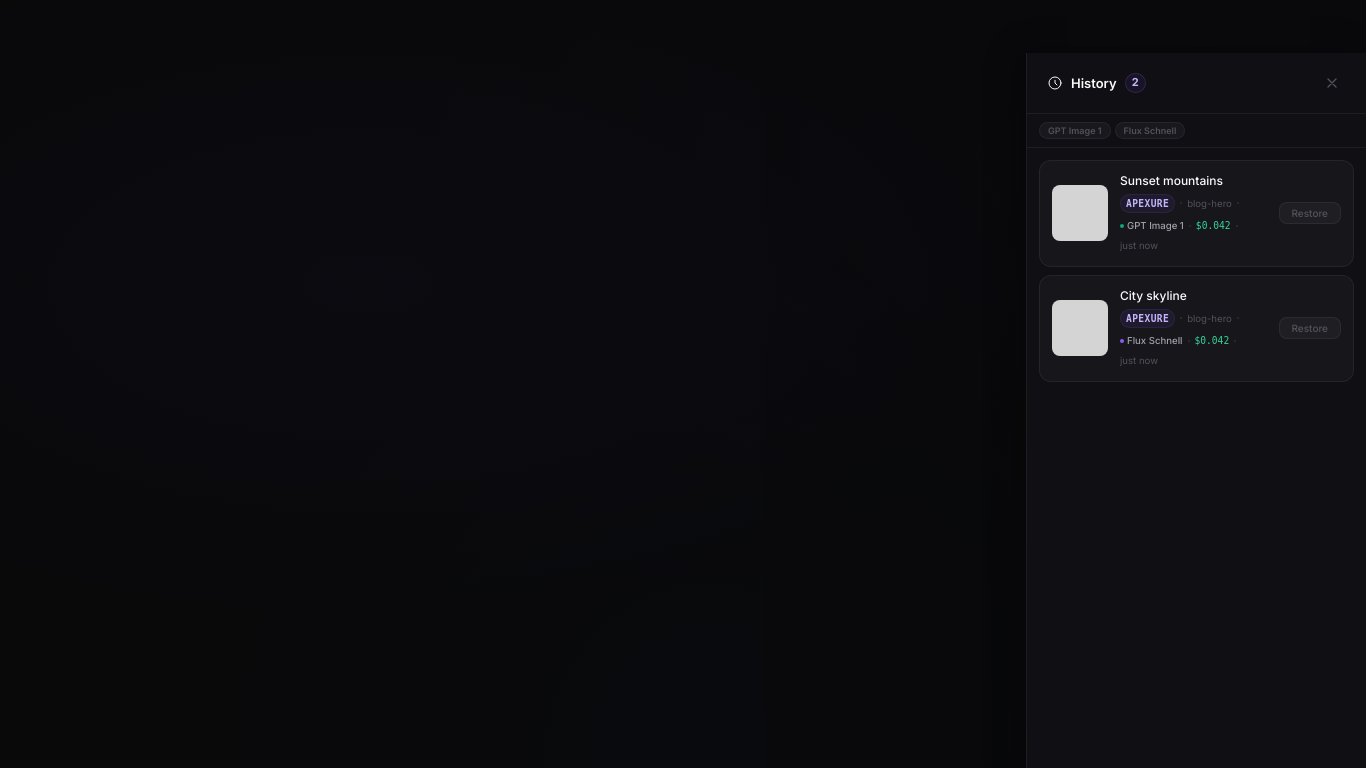
HistoryDrawer › filters entries when a filter chip is clicked
Note: Click the Flux Schnell filter chip (first matching element is the filter)
Click the button "Flux Schnell".
click(1150, 130)  # box [1114,122,1185,139]
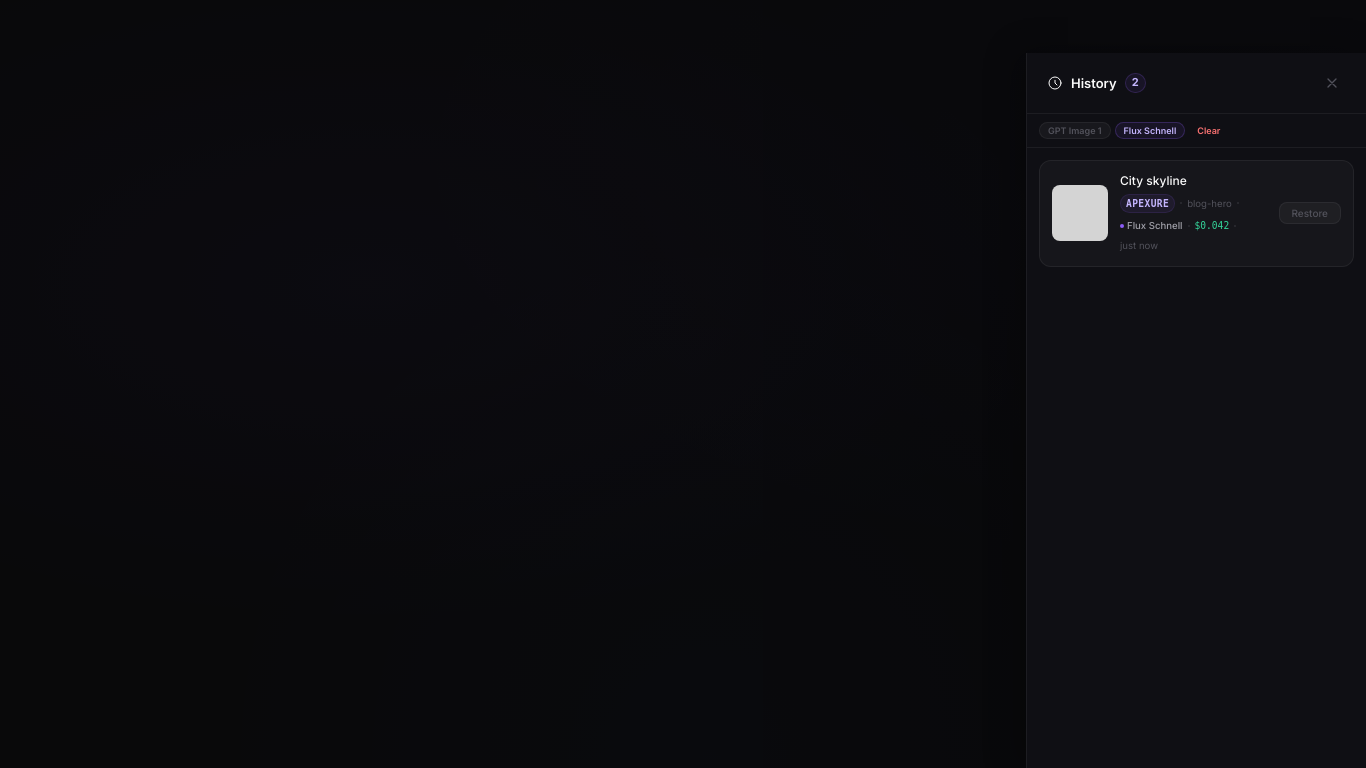
Expected: the text "City skyline" is shown, [1120,173,1187,188]
Now the text "Sunset mountains" is gone
